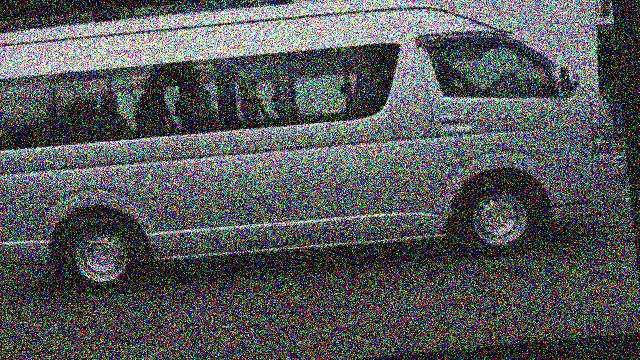van: (0, 0, 628, 301)
